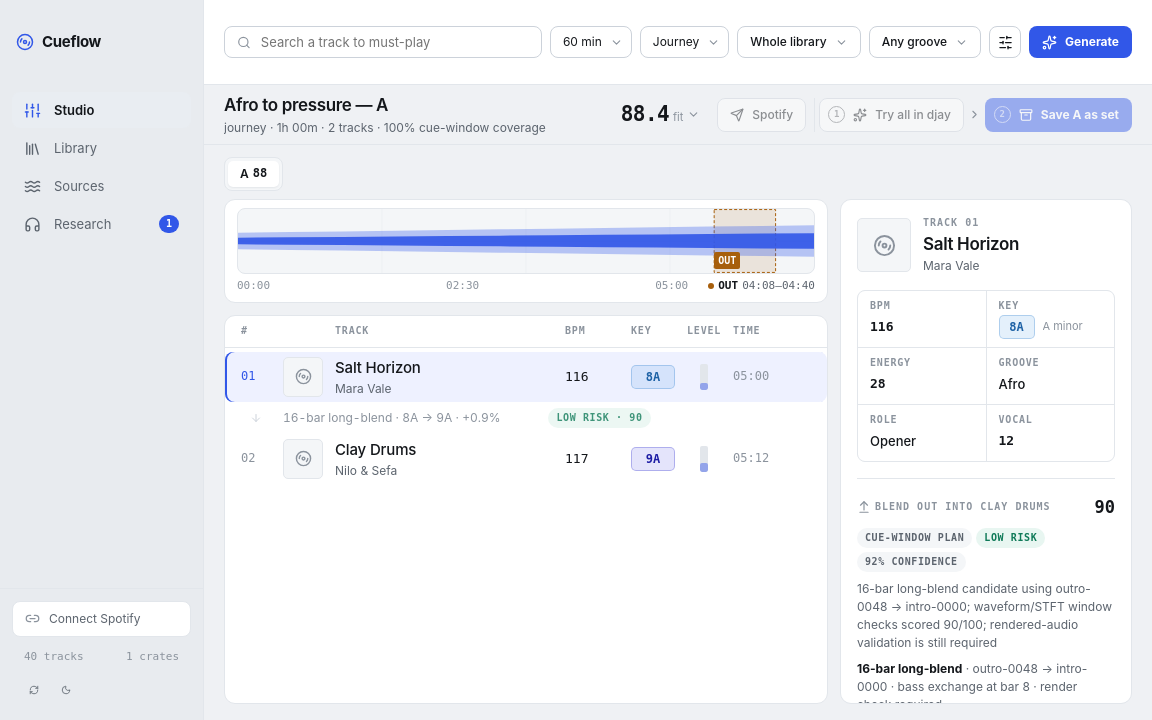
Test: Cueflow desk › opens the provenance-aware research queue from the sidebar
expect the heading "Afro to pressure — A" is shown: met, box [224,95,388,115]
Step 1. Click the button "Research 1" → point(102, 224), box [12,206,191,242]
(page scrolled)
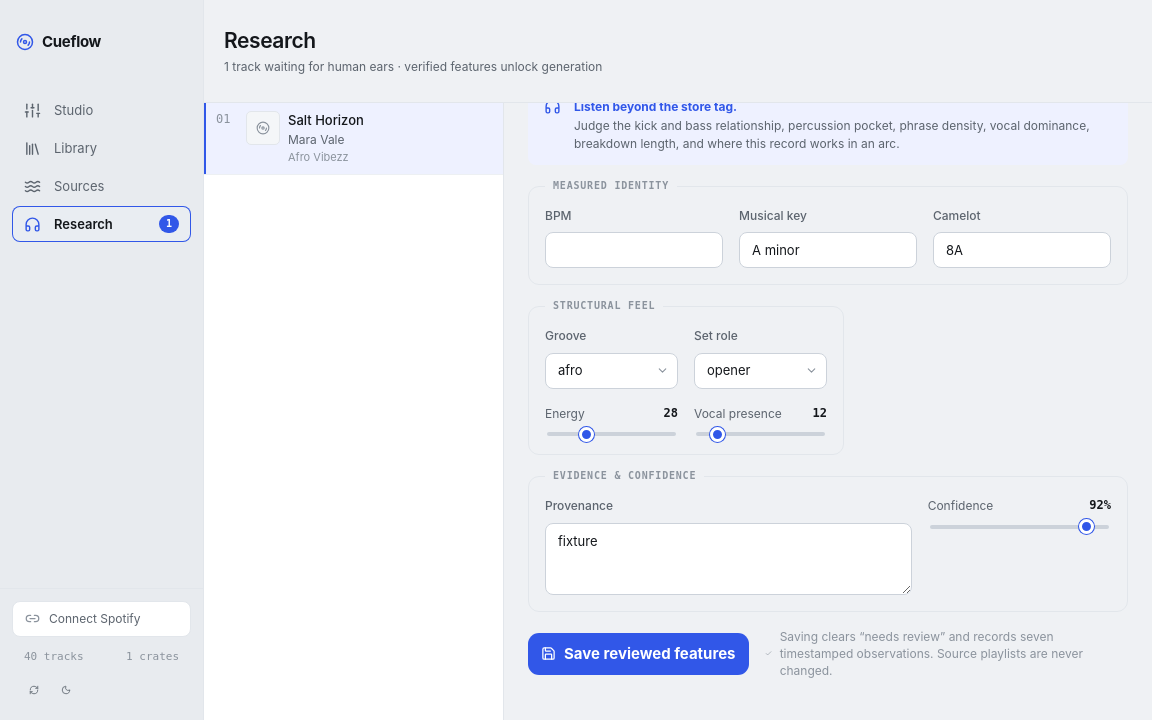
expect the text "Listen beyond the store tag." is shown: met, box [574,103,737,114]
expect the button "Save reviewed features" is shown: met, box [528,633,748,675]
